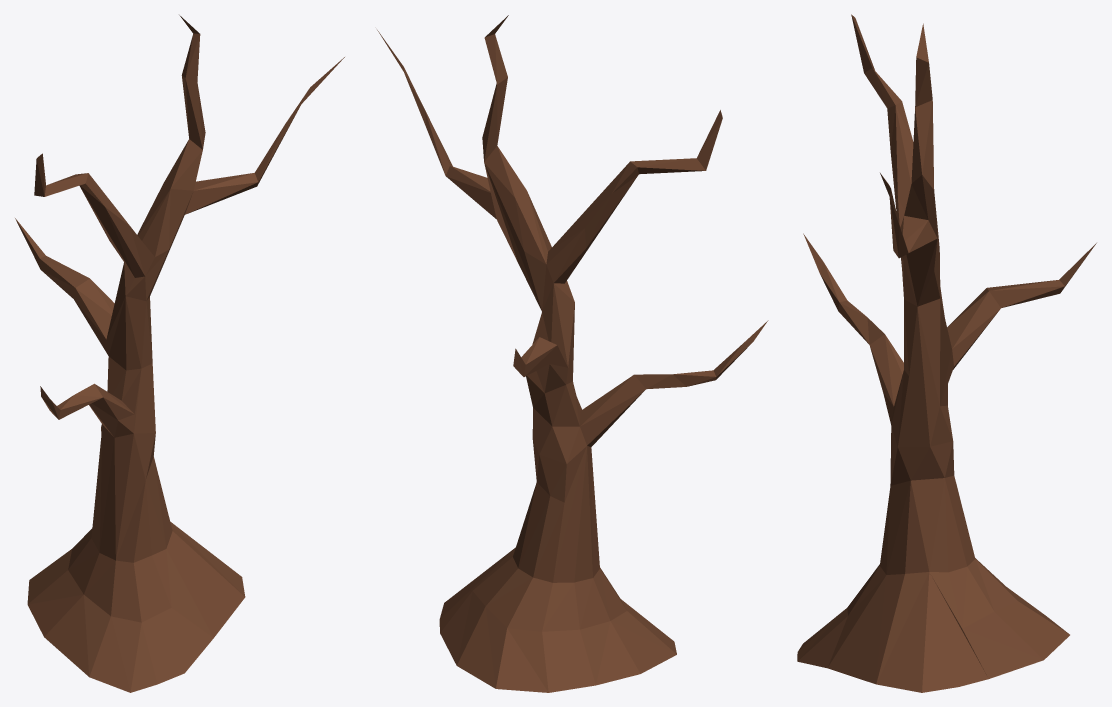
File: Tree02.fbx
3 views of the same model, side by side, from view 1: azimuth 30°, elevation 25°; view 2: azimuth 150°, elevation 25°; view 3: azimuth 270°, elevation 25° (orthographic). The views are drawn at different scales.
Parts seen in each view (by area): view 1: Tree02; view 2: Tree02; view 3: Tree02.
Boxes of the visible parts, x1,y1,x2,y2 form: Tree02: [15, 15, 344, 692]; Tree02: [377, 15, 768, 692]; Tree02: [797, 14, 1096, 692].
Bounding box in the file's own units: 337 × 580 × 234.
